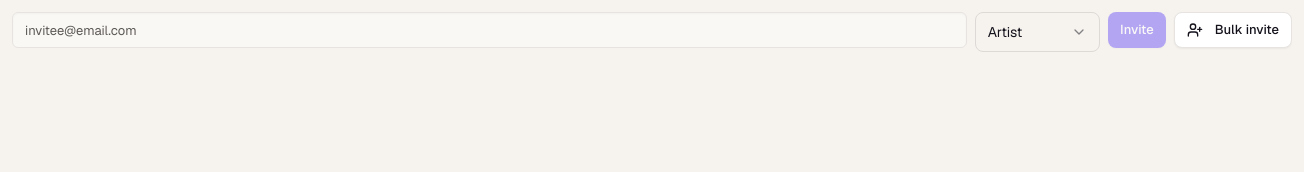
Test: InviteBar duplicate detection › enables Invite for a fresh address
Type "new@x.com" into the field with placeholder "invitee@email.com" at [489, 30], box x1=12 y1=12 x2=967 y2=48
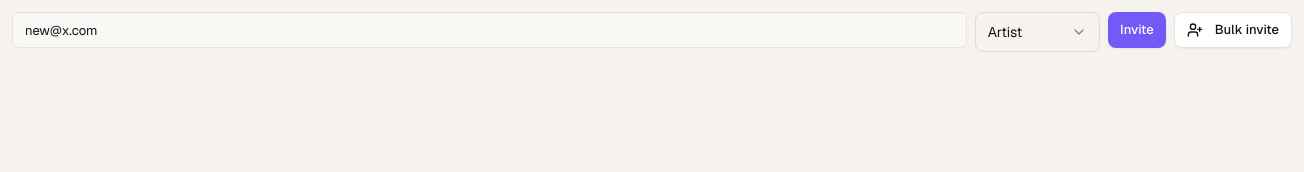
Expected: the button "Invite" is enabled, x1=1108 y1=12 x2=1166 y2=48
